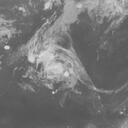cyclone: (18, 0, 124, 100)
